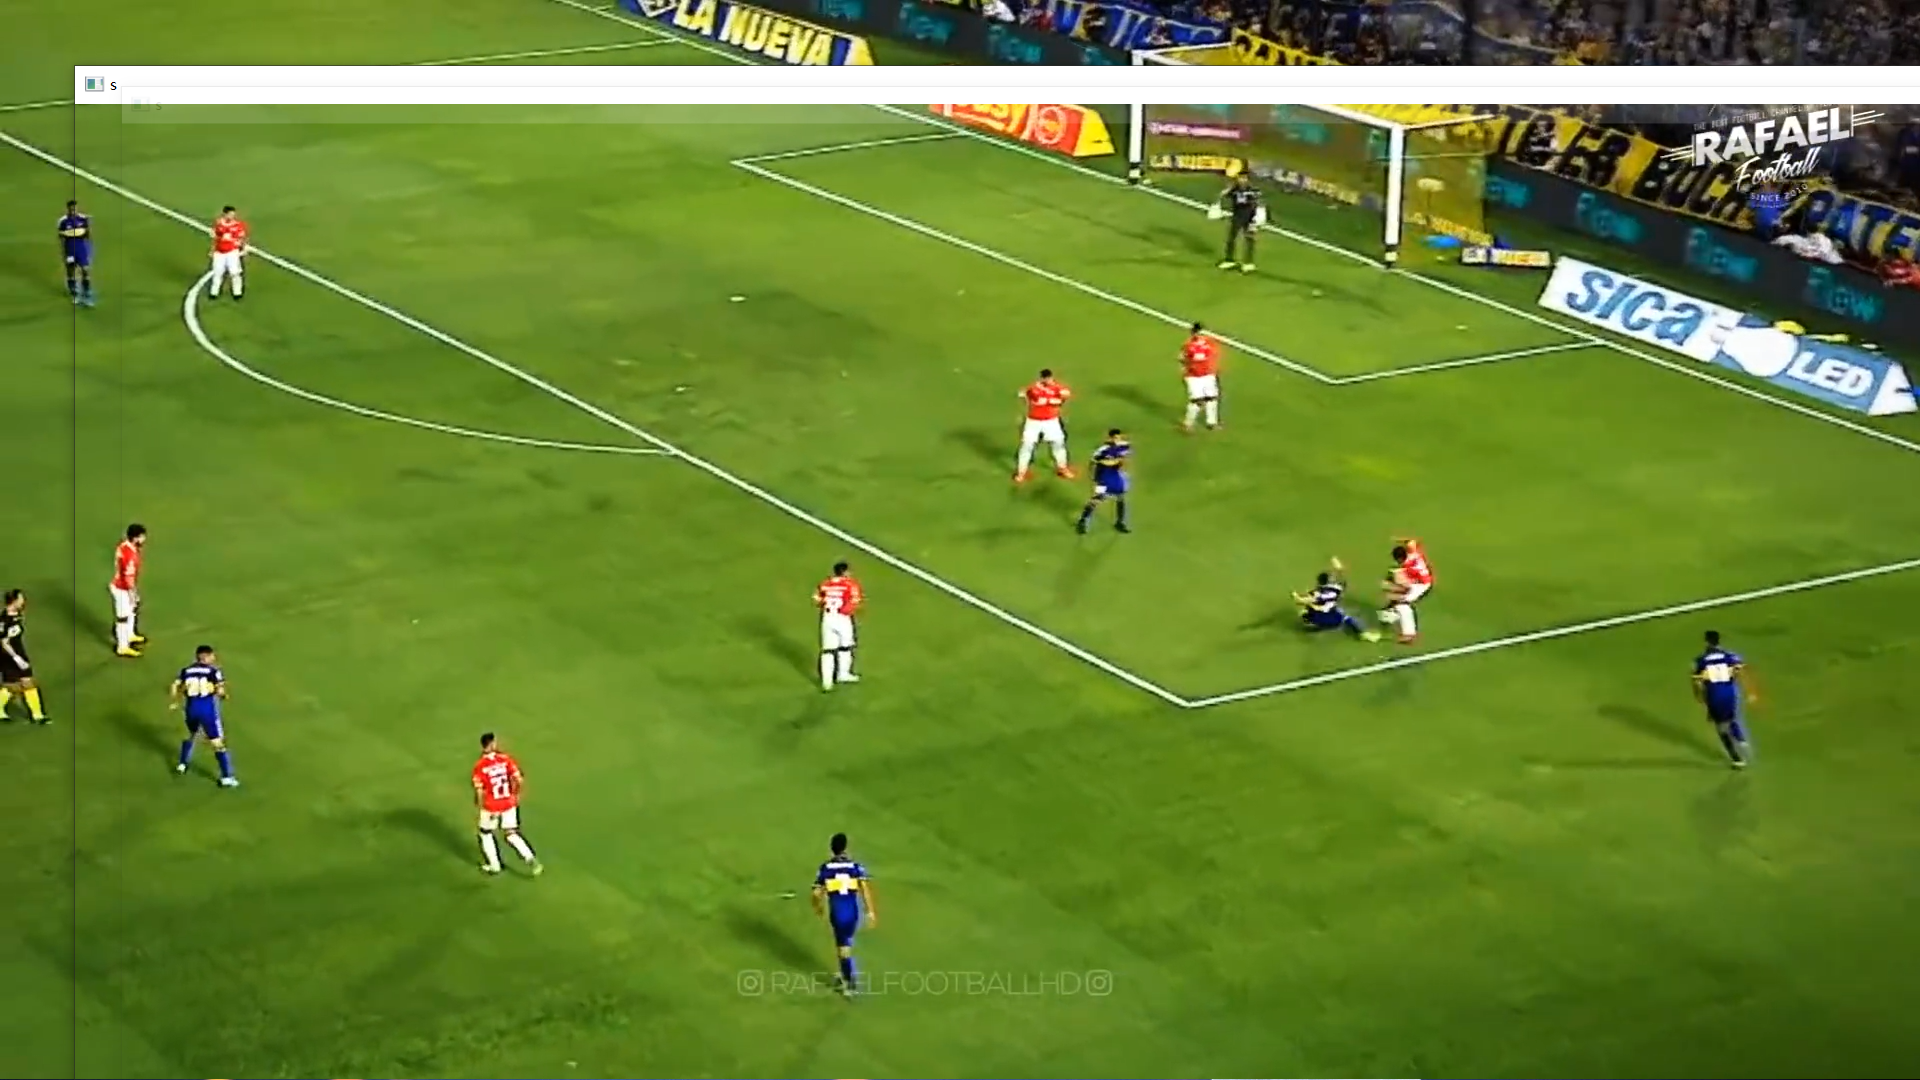ft: (1375, 608, 1400, 628)
